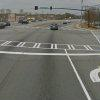Crosswalk: (4, 34, 100, 60)
